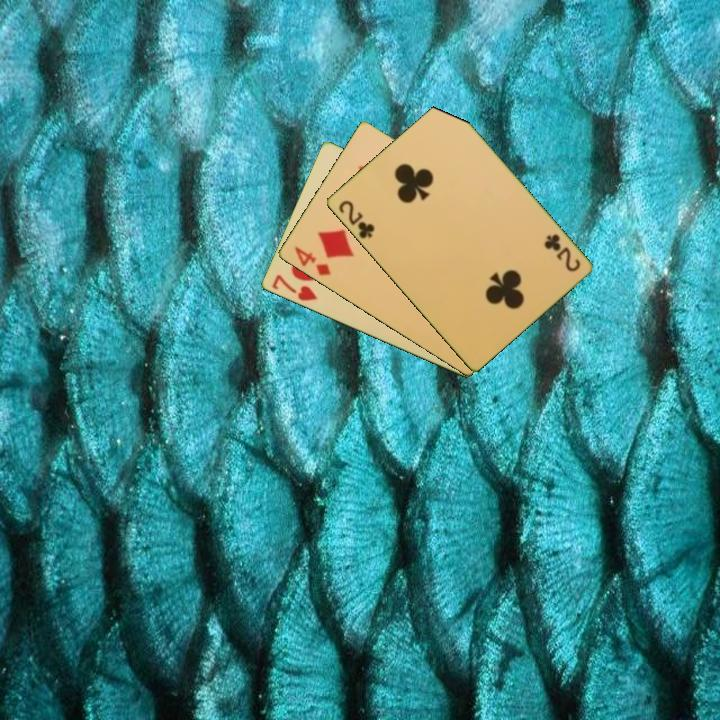2c: (540, 230, 583, 275), (335, 196, 377, 242)
4d: (290, 243, 333, 279)
7h: (268, 271, 319, 304)
